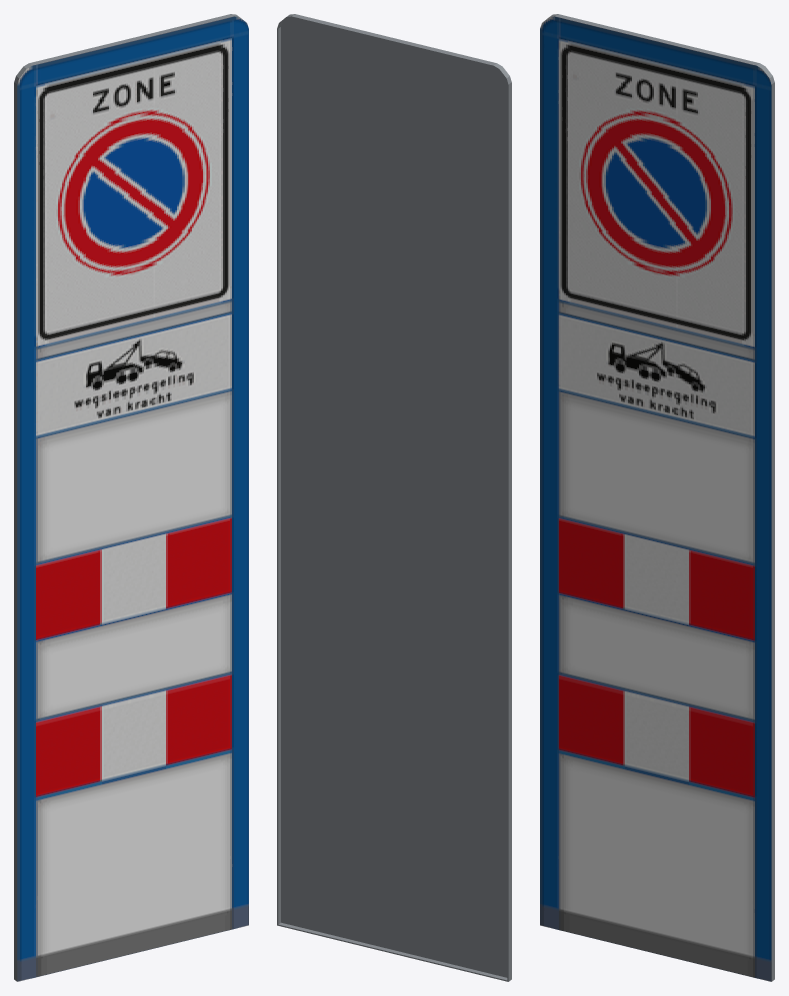
3 renders of one model, left to right at view 1: azimuth 30°, elevation 25°; view 2: azimuth 150°, elevation 25°; view 3: azimuth 330°, elevation 25°, orthographic.
Visible parts, largest first — view 1: cat_d6af5c8c151a3d7e; view 2: cat_d6af5c8c151a3d7e; view 3: cat_d6af5c8c151a3d7e.
Boxes of the visible parts, left/top/right/bottom form: cat_d6af5c8c151a3d7e: left=14, top=14, right=248, bottom=981; cat_d6af5c8c151a3d7e: left=277, top=14, right=511, bottom=981; cat_d6af5c8c151a3d7e: left=540, top=14, right=774, bottom=981.
Size of the model in its own units: 0.6 by 0.015 by 2.26.
2 materials, 1 textured.
